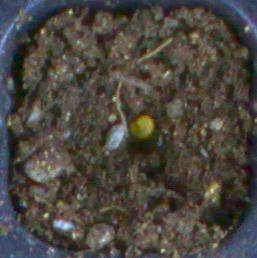chilli seed: (130, 115, 153, 138)
